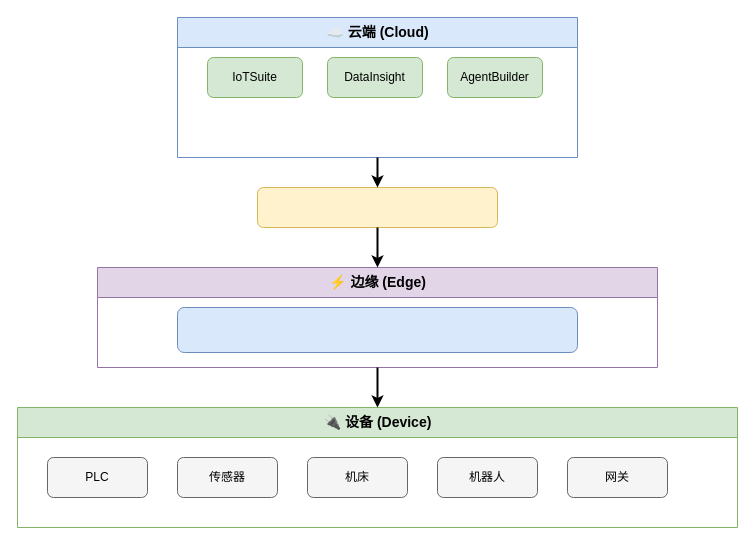
This 755x545 diagram has some shape labels left out. Each missing label, with the centre of its shape:
"IoT Edge / EdgeHub 协议转换 · 边缘计算 · 本地预处理" goes at (x=377, y=329).
"数据中枢 DataHub" goes at (x=377, y=207).
